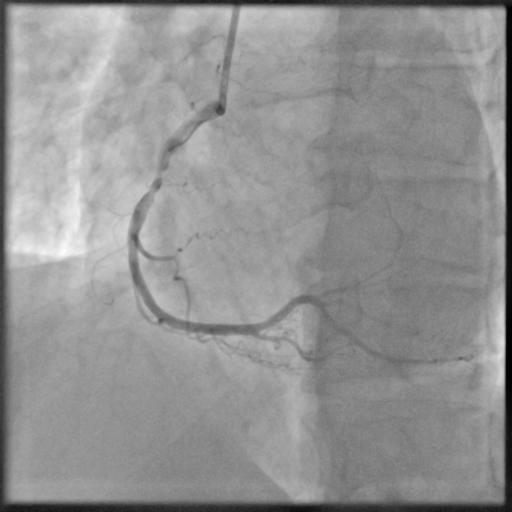Stenosis: (152, 162, 167, 188)
